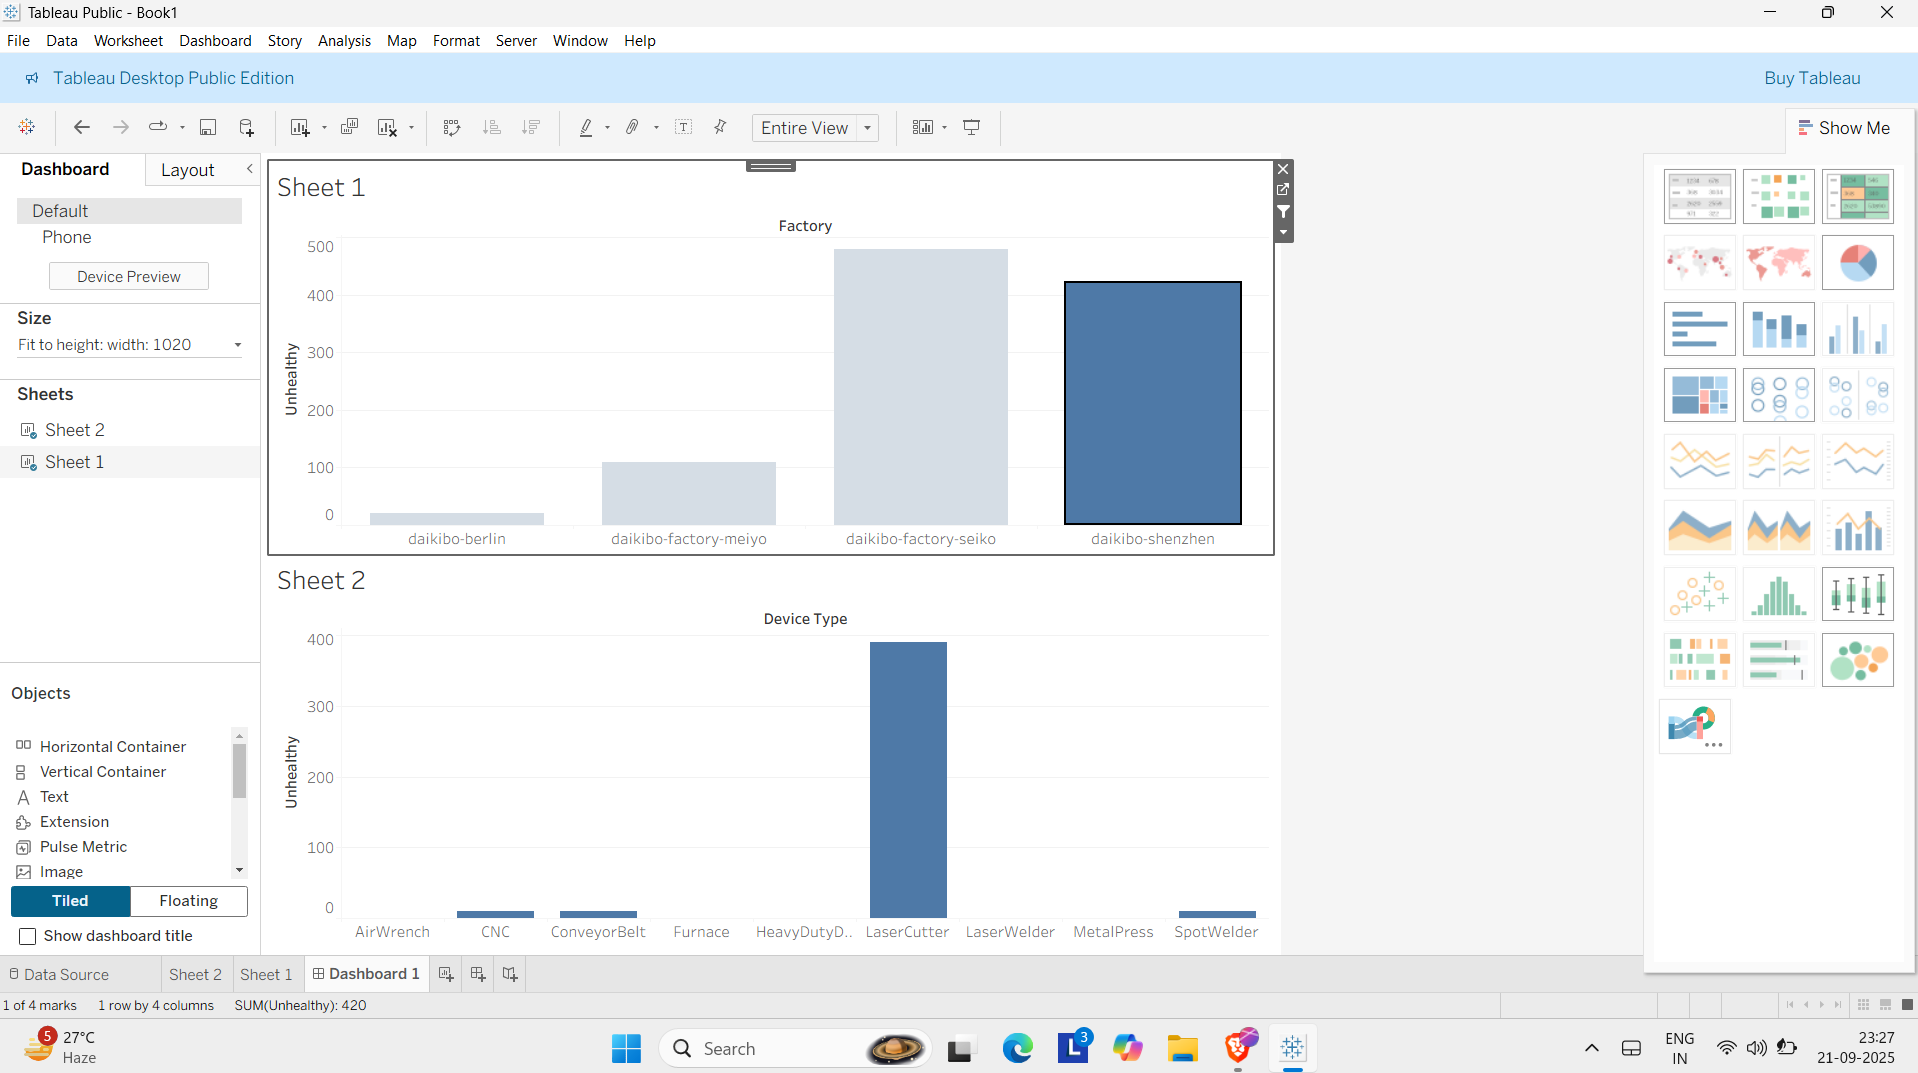

Layout of this report page (visuals, bound fields, positions):
{"tool":"tableau","page":{"name":"Dashboard 1","canvas":[1000,1000],"units":"permille","ordinal":0},"visuals":[{"type":"worksheet","title":"Sheet 1","mark":"Automatic","rows":["Calculation_1010495222286491648"],"cols":["factory"],"box":[7.8,10,984.3,490]},{"type":"worksheet","title":"Sheet 2","mark":"Automatic","rows":["Calculation_1010495222286491648"],"cols":["deviceType"],"box":[7.8,500,984.3,490]}]}

Visuals, with their boxes on the dashboard's canvas, which has no fixed pixel size, in thousandths of its width and height (x1, y1, x2, y2). These are canvas units, not pixel positions in the 1918x1073 screenshot, which may show the page scaled, cropped or inside an application window:
"Sheet 1" worksheet: (8,10,992,500)
"Sheet 2" worksheet: (8,500,992,990)
